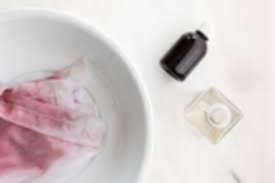wine: (1, 85, 94, 183)
